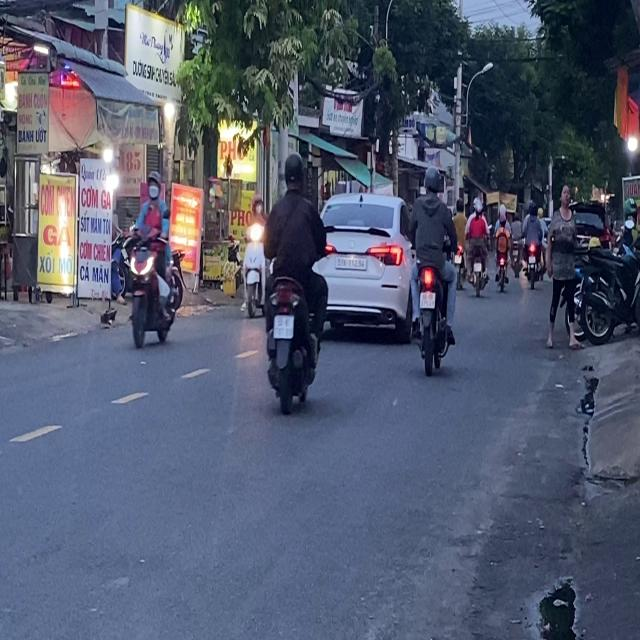helmet: (282, 151, 304, 191), (422, 164, 441, 196), (146, 169, 160, 200)
licenseplate: (261, 149, 330, 412), (408, 163, 457, 373), (124, 168, 180, 350)
nohelmet: (274, 315, 294, 338), (419, 292, 435, 308)
